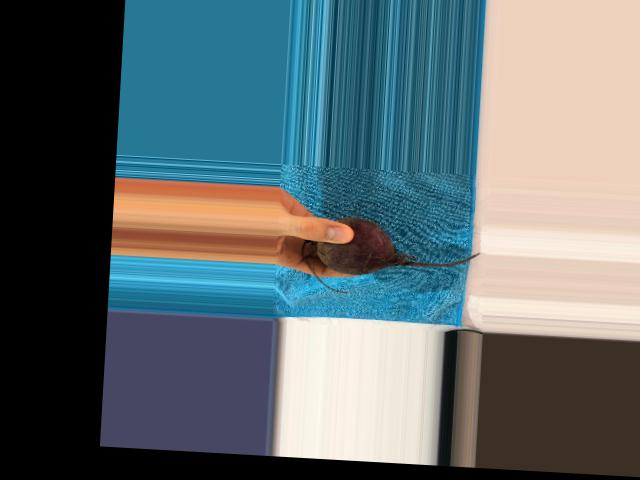beet: (300, 214, 482, 299)
